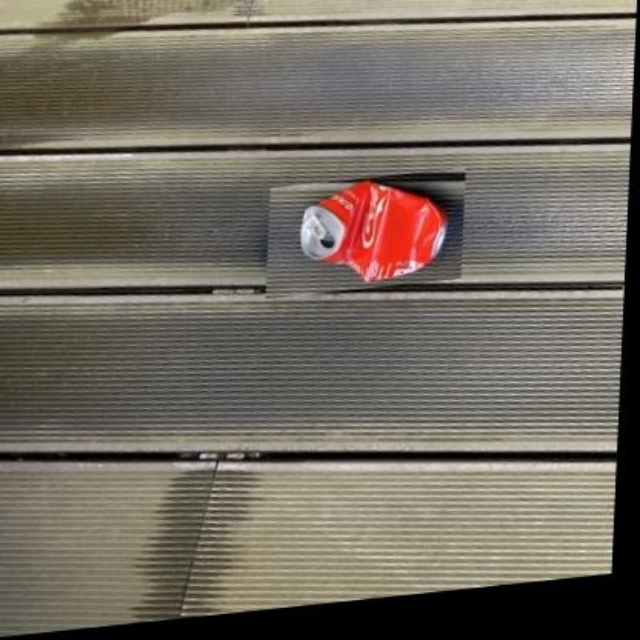trash: (300, 182, 445, 282)
